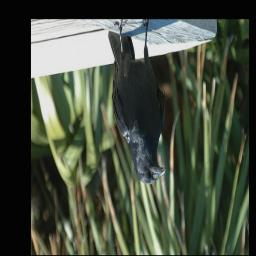Crow: (108, 20, 165, 185)
